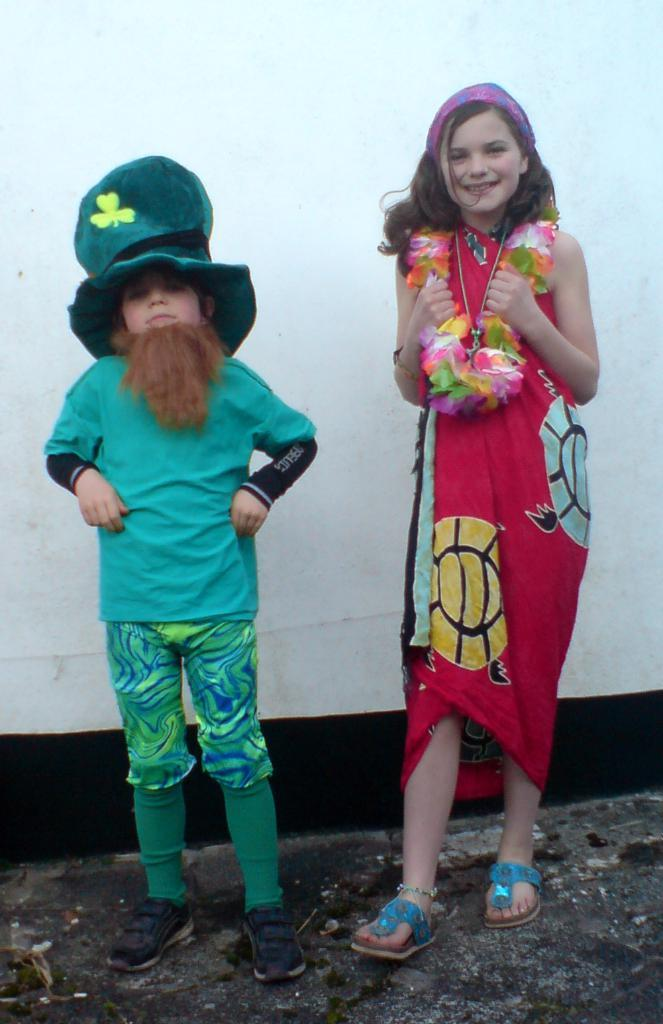Hat: (64, 147, 254, 360)
